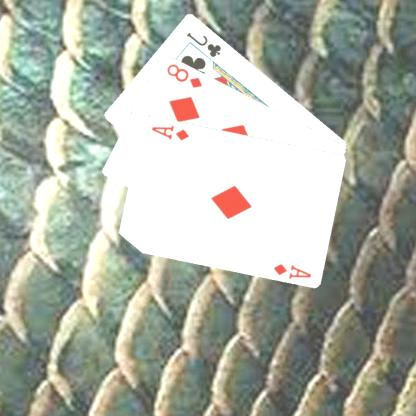8D: (166, 60, 206, 90)
AD: (150, 122, 192, 141), (272, 261, 314, 279)
JC: (185, 29, 225, 59)
